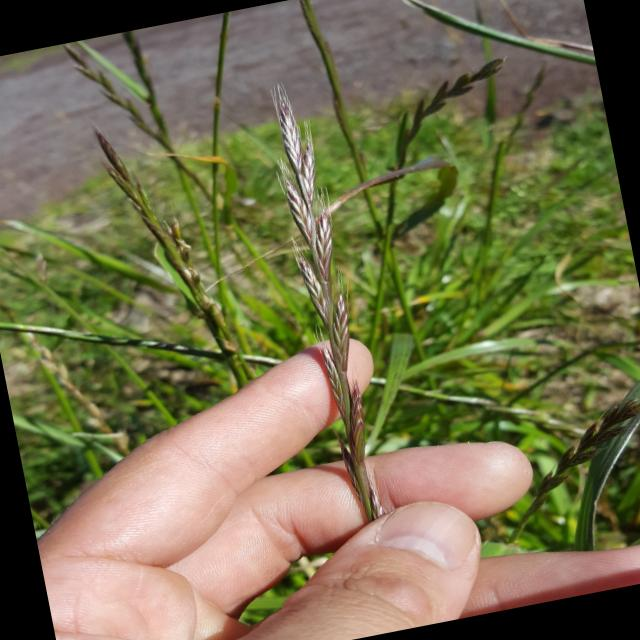Lolium: (311, 60, 572, 444), (255, 74, 398, 528), (72, 92, 262, 406)
